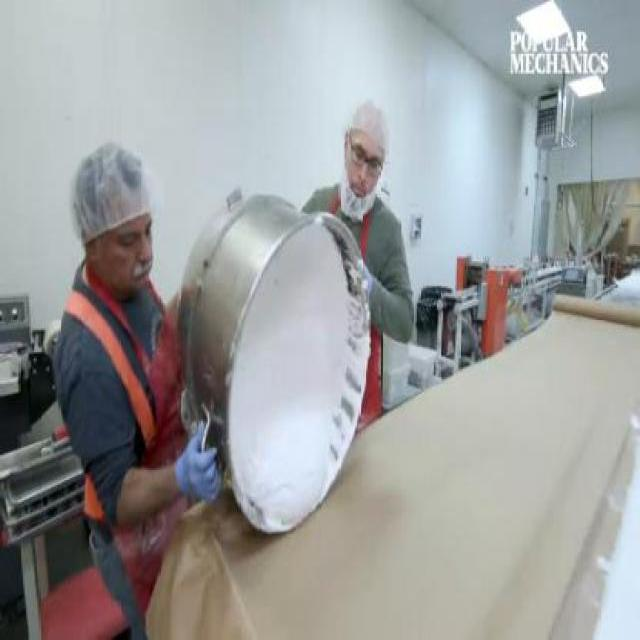hairnet: (69, 142, 155, 224), (351, 95, 394, 147)
